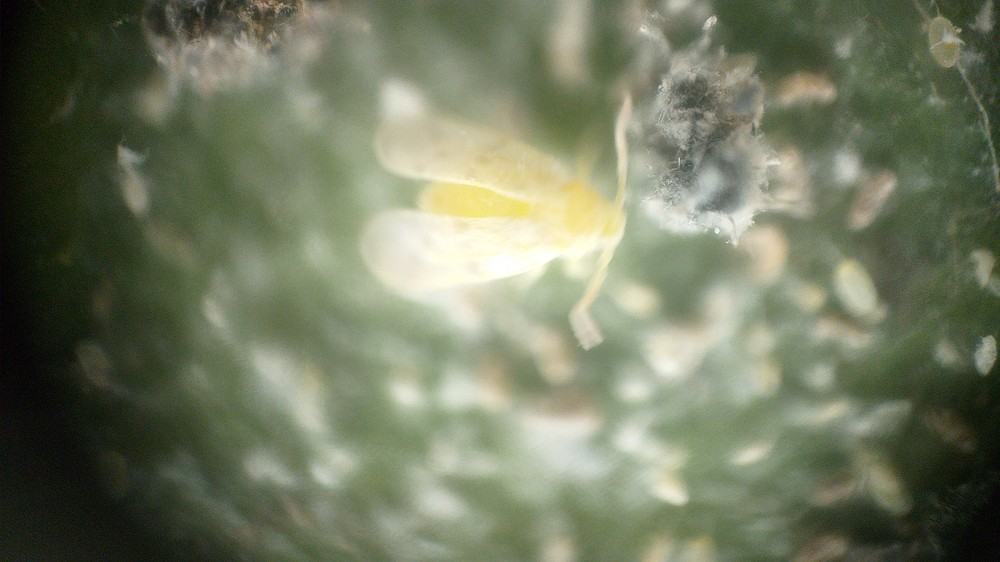Mosca Blanca: (358, 80, 657, 365)
